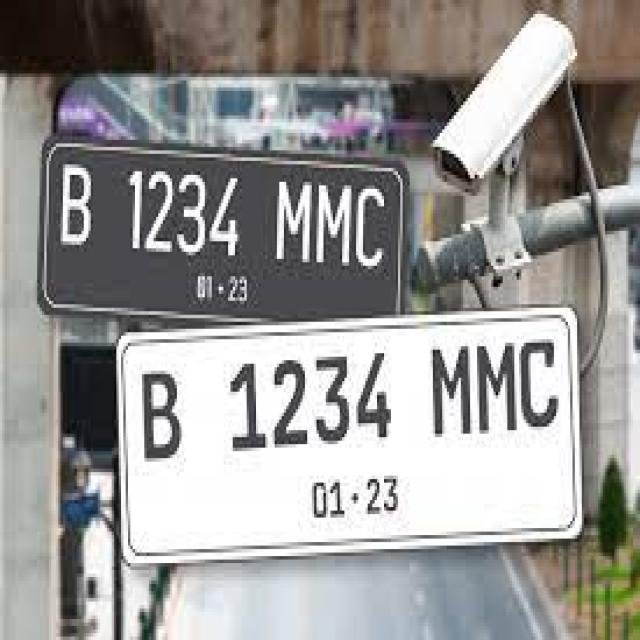lisence-plate: (111, 310, 588, 564), (28, 115, 404, 328)
